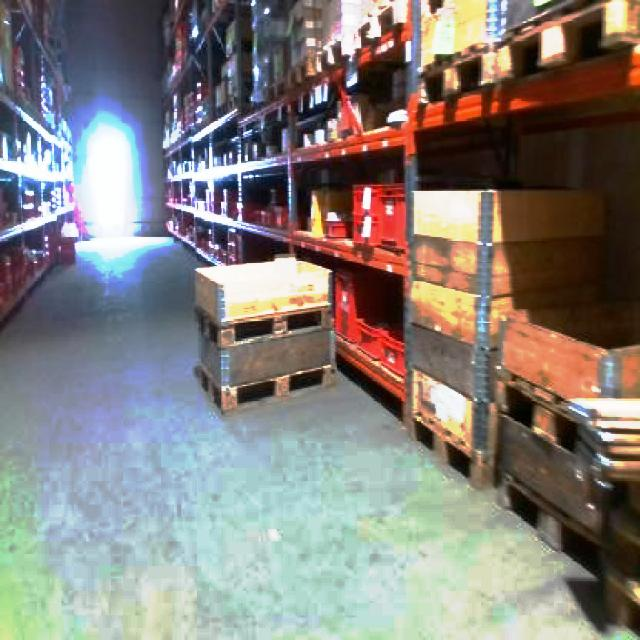ground: (0, 231, 638, 638)
pallet: (402, 0, 638, 638), (158, 0, 403, 422), (402, 185, 608, 488), (491, 305, 638, 638), (191, 252, 337, 414)
